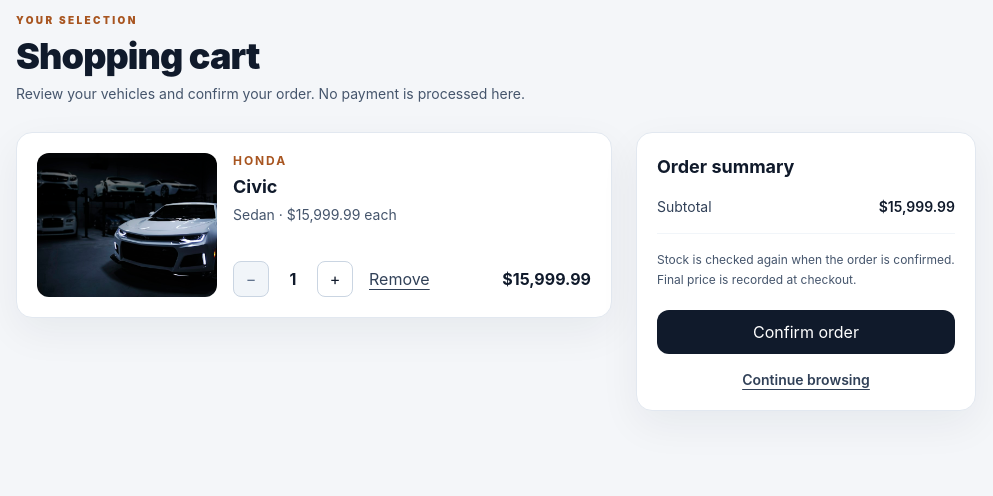
Test: customer cart and checkout › preserves the cart and retry key when the backend rejects checkout
The image size is (993, 496).
Click the button "Confirm order" at x=806, y=332, box [657, 310, 955, 354]
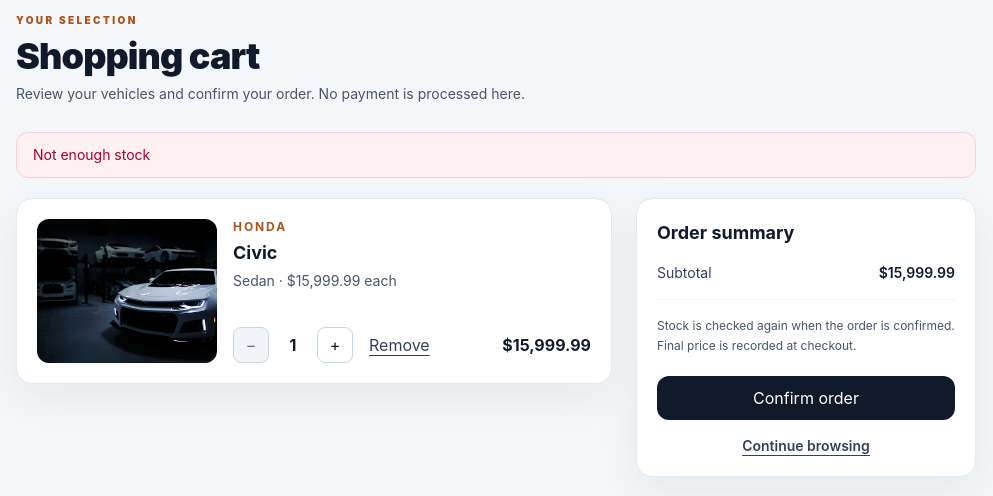
expect the message reads "Not enough stock": met, box [33, 146, 150, 163]
